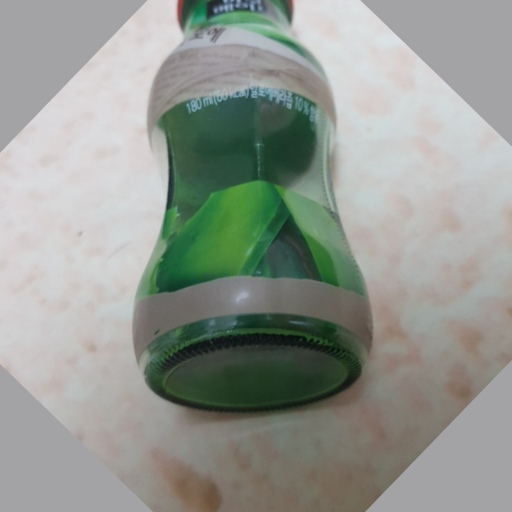Glass_4: (116, 1, 378, 407)
